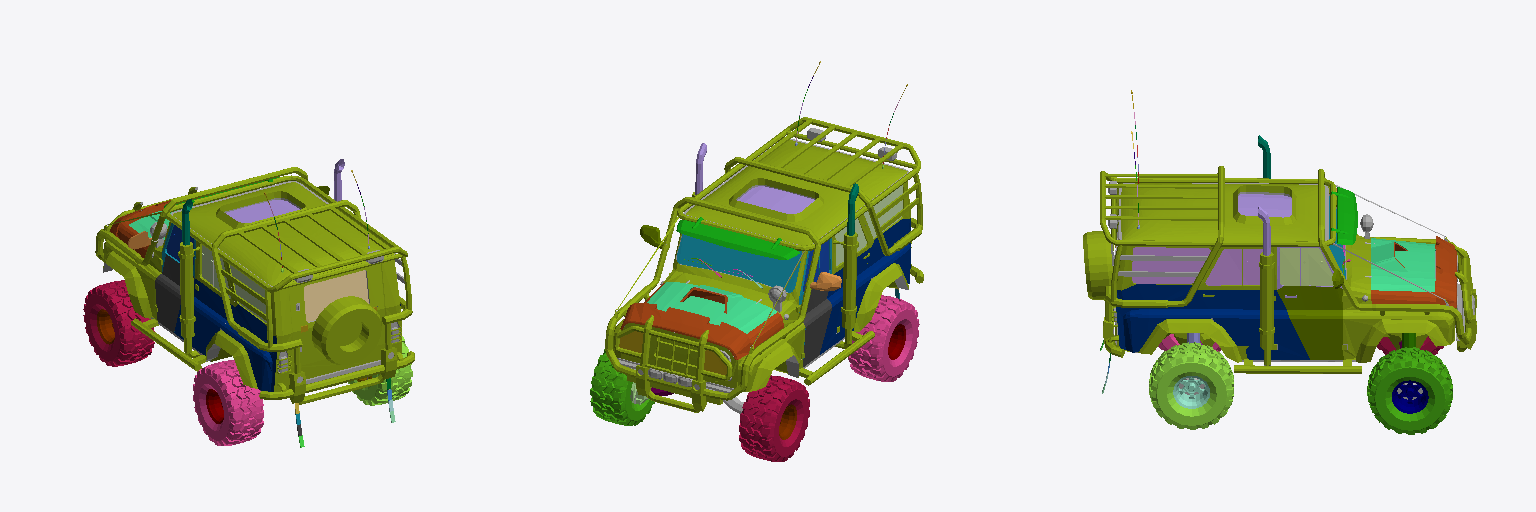
File: Jeep.obj
The picture shows the model from 3 angles: view 1: azimuth 30°, elevation 25°; view 2: azimuth 150°, elevation 25°; view 3: azimuth 270°, elevation 25°; orthographic projection.
Parts seen in each view (by area): view 1: (null); view 2: (null); view 3: (null).
Part boxes in pixels (left/top/right/bottom): (null): left=83, top=159, right=414, bottom=447; (null): left=590, top=61, right=923, bottom=461; (null): left=1083, top=90, right=1476, bottom=434.
Size of the model in its own units: 246 by 319 by 419.